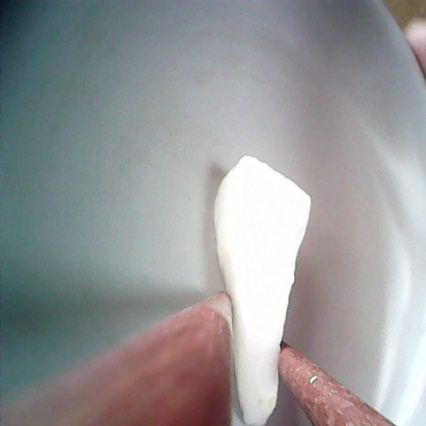white_chinese-yam: (205, 153, 315, 426)
